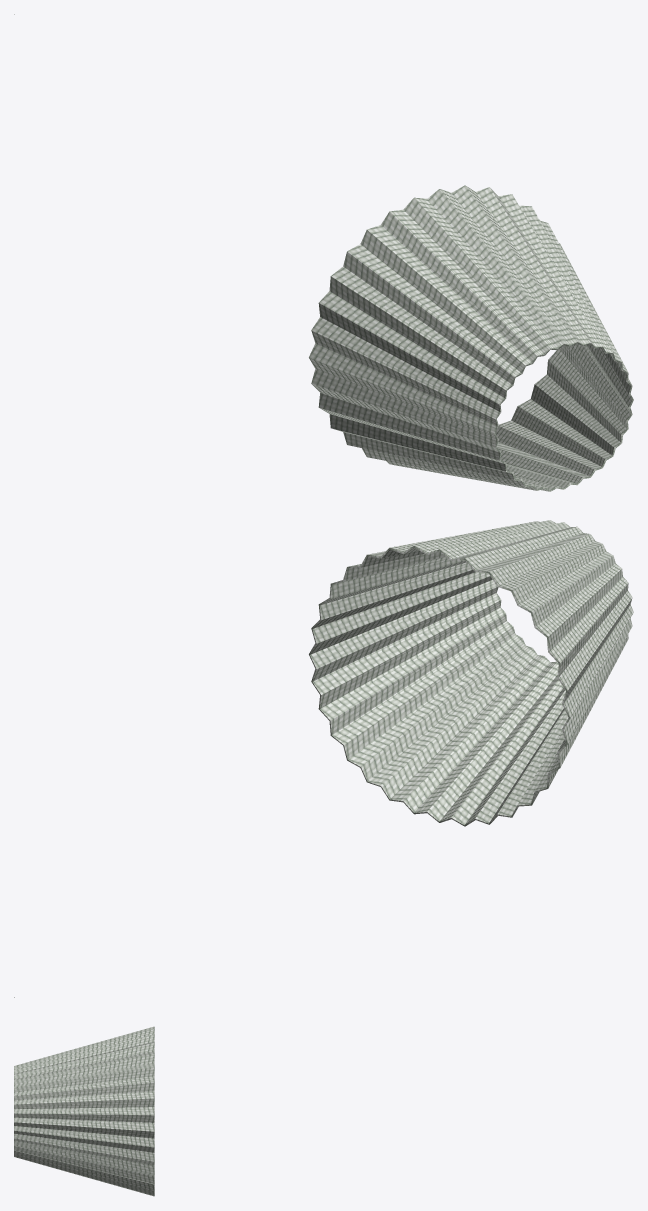
File: MeshFloorLamp_18_0_GeomSubset_2.obj
3 renders of one model, top to bottom at view 1: azimuth 30°, elevation 25°; view 2: azimuth 150°, elevation 25°; view 3: azimuth 270°, elevation 25°, orthographic. The views are drawn at different scales.
Parts seen in each view (by area): view 1: MeshFloorLamp_18_0_GeomSubset_2; view 2: MeshFloorLamp_18_0_GeomSubset_2; view 3: MeshFloorLamp_18_0_GeomSubset_2.
Part boxes in pixels (<box>): MeshFloorLamp_18_0_GeomSubset_2: <box>14,14,633,491</box>; MeshFloorLamp_18_0_GeomSubset_2: <box>14,520,633,997</box>; MeshFloorLamp_18_0_GeomSubset_2: <box>14,1026,154,1196</box>.
Bounding box in the file's own units: 0.4962 × 0.4962 × 1.81.
